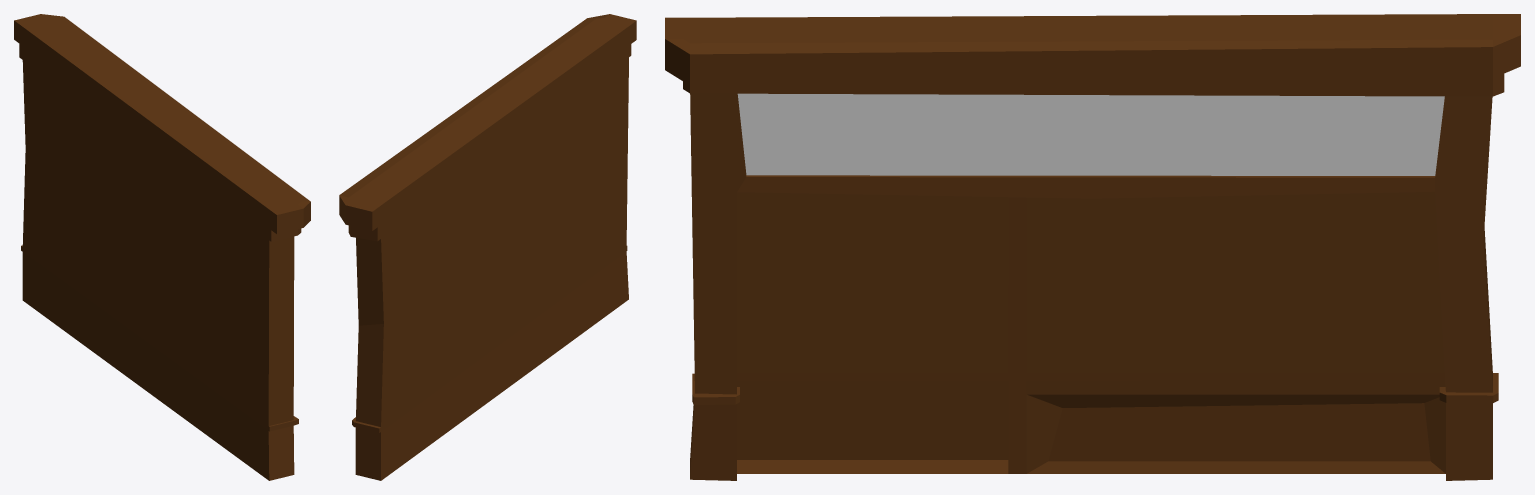
Rendered from Cafe.fbx.
3 renders of one model, left to right at view 1: azimuth 30°, elevation 25°; view 2: azimuth 150°, elevation 25°; view 3: azimuth 270°, elevation 25°, orthographic. The views are drawn at different scales.
Visible parts, largest first — view 1: Cube.027; view 2: Cube.027; view 3: Cube.027.
Boxes of the visible parts, box(x1,y1,x2,y2) form: Cube.027: box(14, 14, 310, 480); Cube.027: box(339, 14, 636, 480); Cube.027: box(665, 14, 1520, 480).
Size of the model in its own units: 56.9 by 623 by 358.
